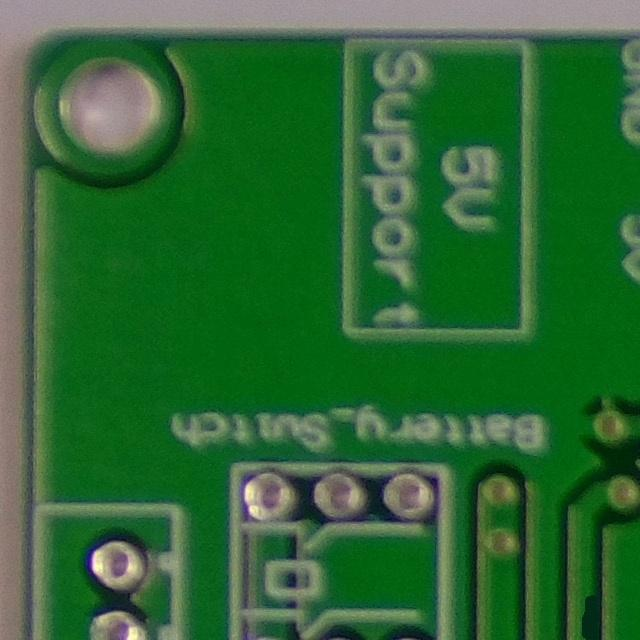mouse_bite: (558, 584, 615, 640)
